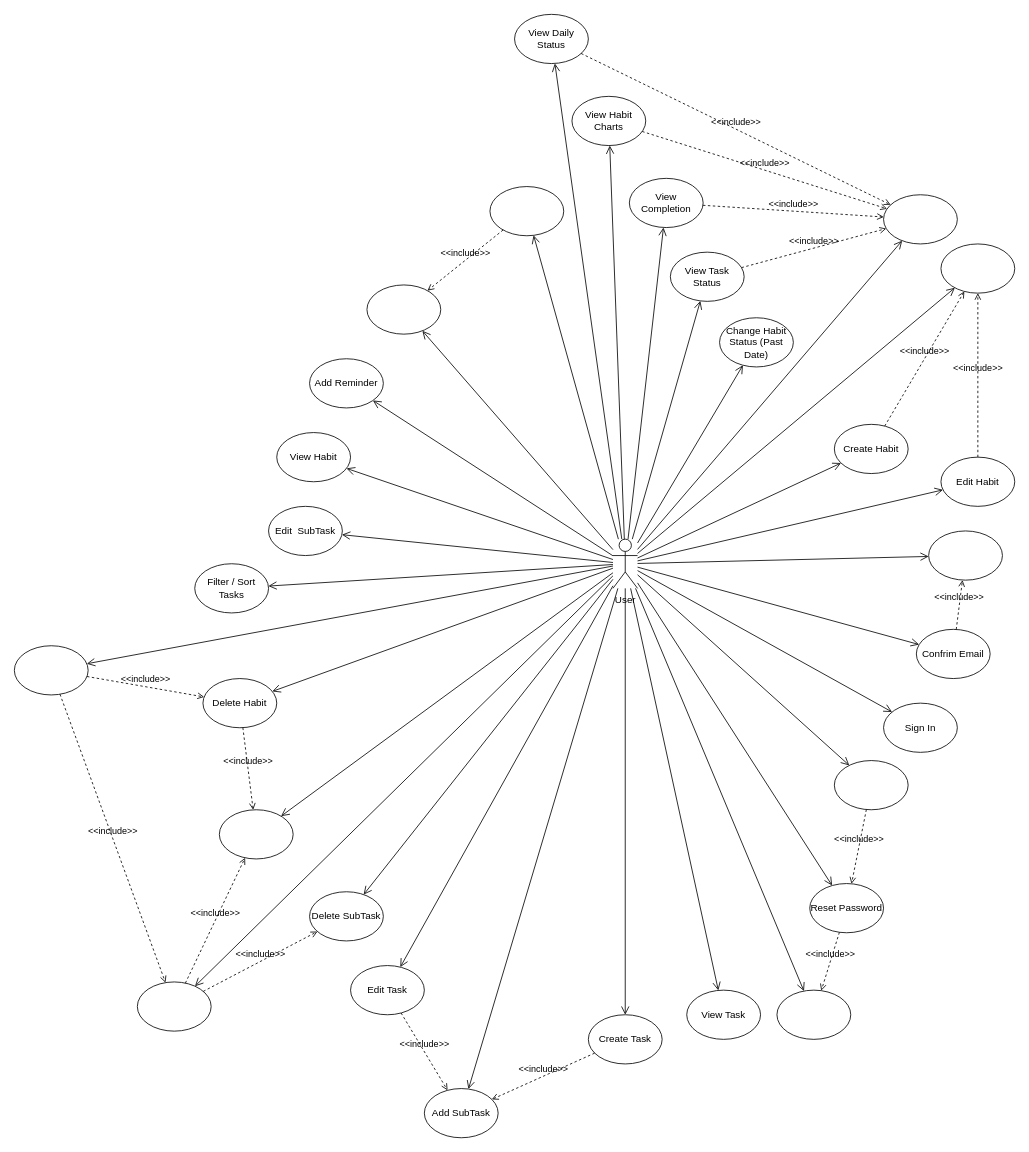
Some shapes in this 1029 by 1152 pixel diagram are drawn without their labels. Each missing label, with the centre of its shape:
Change Password: the point at 813,1014
Configure Pattern: the point at 977,268
Delete Account: the point at 51,670
Delete Reminder: the point at 256,834
Delete Task: the point at 174,1006
Edit Reminder: the point at 403,309
Forgot Password: the point at 871,785
Set Stats Range: the point at 920,219
Sign Up: the point at 965,555
Toggle Reminder: the point at 526,211
